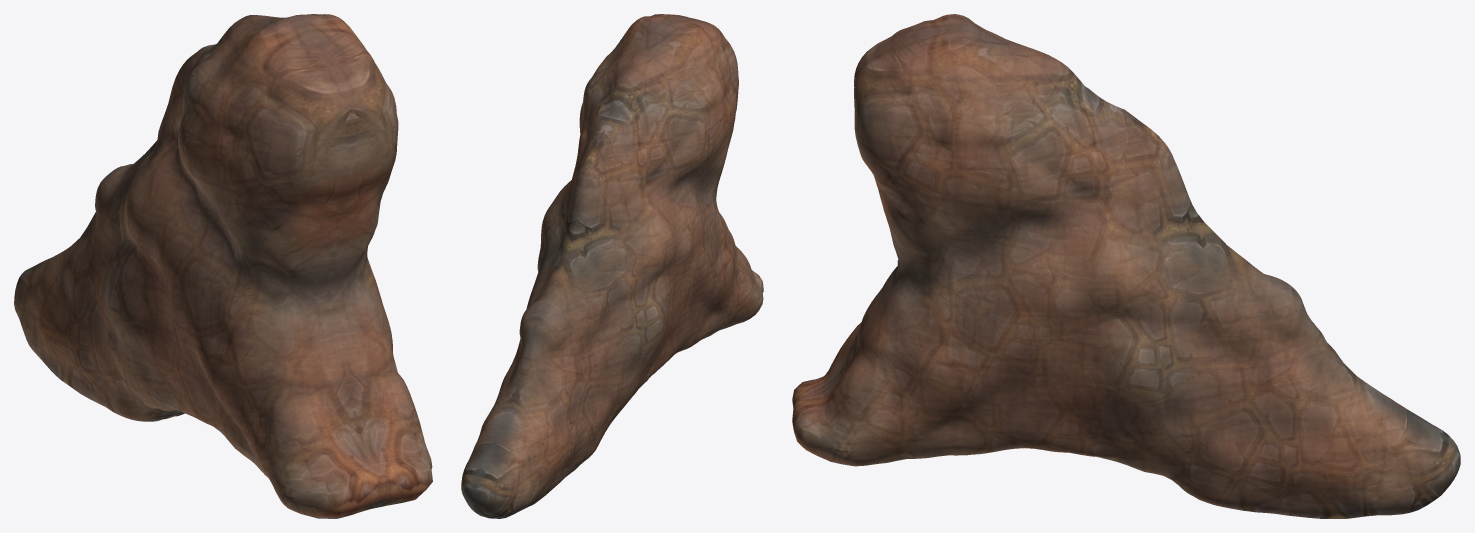
Rendered from island3.obj.
3 views of the same model, side by side, from view 1: azimuth 30°, elevation 25°; view 2: azimuth 150°, elevation 25°; view 3: azimuth 270°, elevation 25° (orthographic). The views are drawn at different scales.
Parts seen in each view (by area): view 1: island3; view 2: island3; view 3: island3.
Part boxes in pixels (<box>): island3: <box>14,14,432,518</box>; island3: <box>461,14,763,518</box>; island3: <box>792,14,1460,518</box>.
Size of the model in its own units: 2.4 by 6.68 by 8.36.
